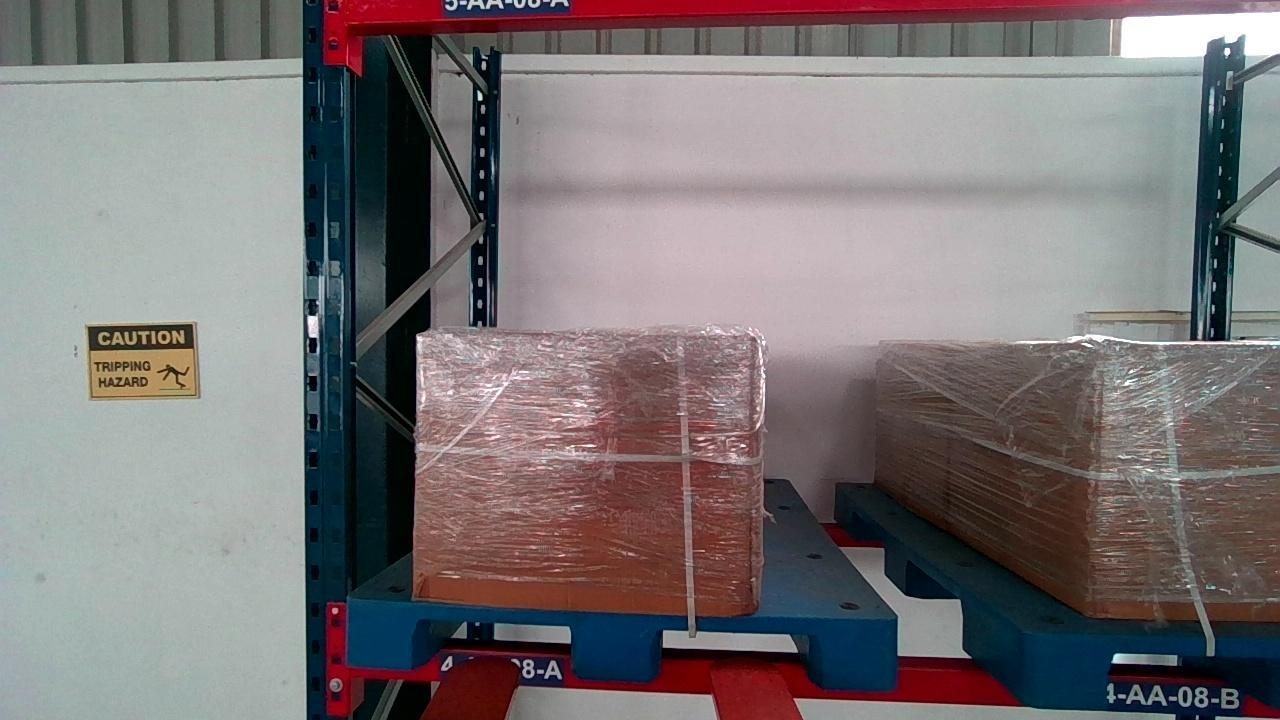h_rack: (349, 646, 1280, 716)
small_pallet: (341, 601, 904, 690), (1038, 636, 1280, 710)
